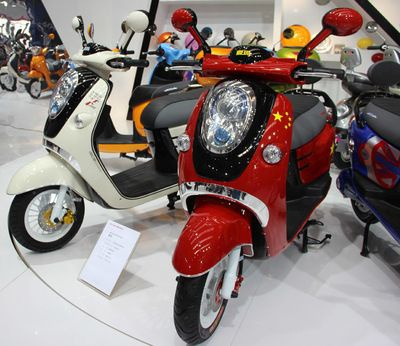non-vehicle: (165, 11, 364, 343), (10, 32, 208, 256)
